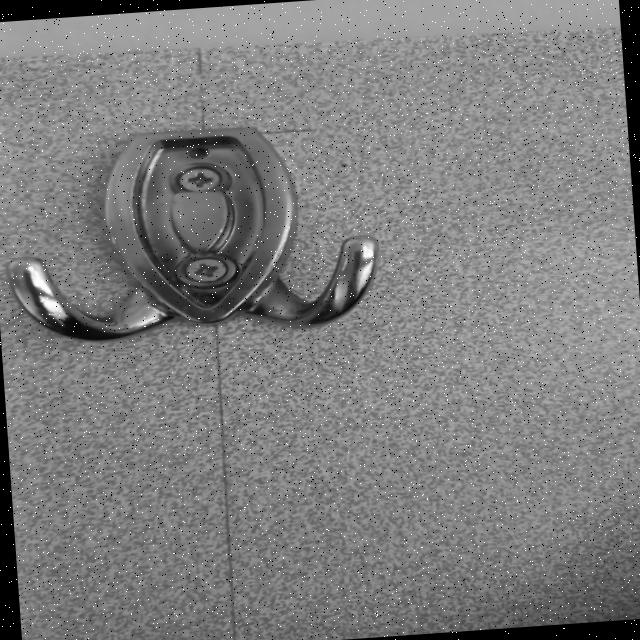Phillips: (175, 254, 242, 286), (177, 164, 224, 198)
